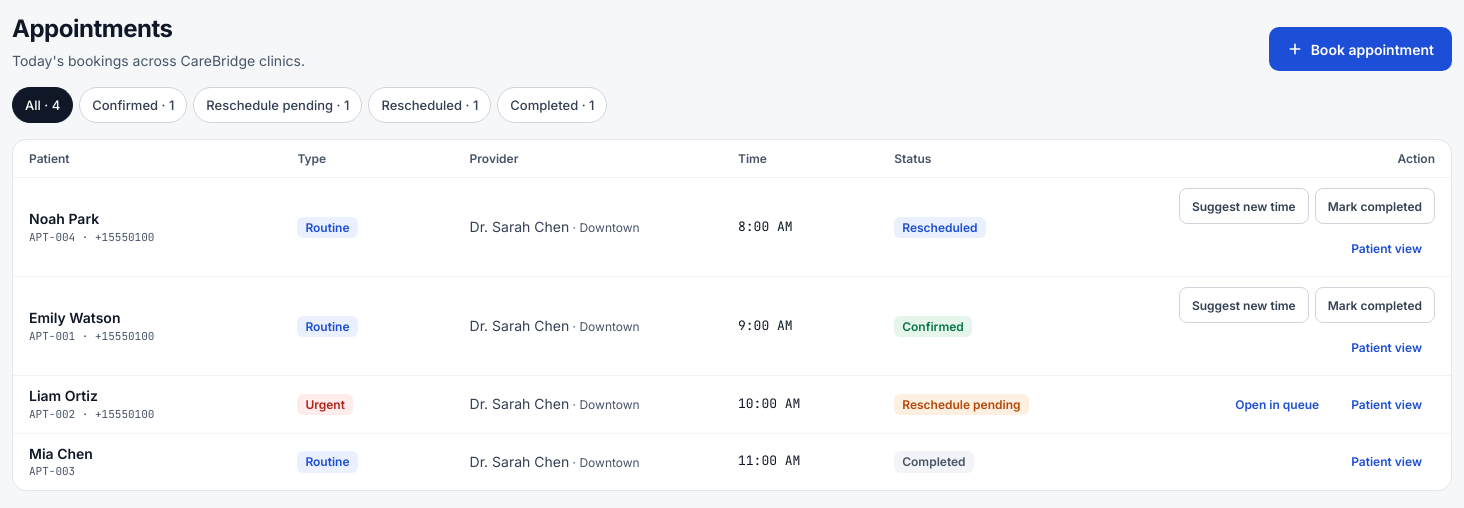
Test: AppointmentsView list › shows an empty message when nothing matches
Click the button "Rescheduled · 1" at (430,105), box [368,87,491,123]
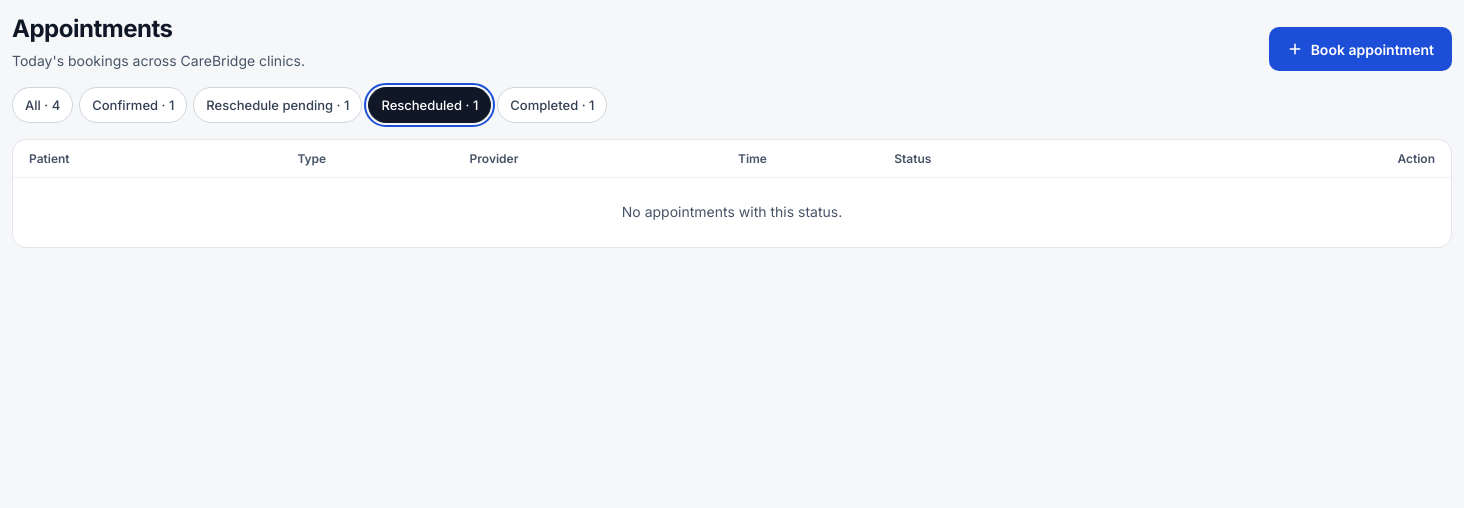
Check: the text "No appointments with this status." is shown, box [622,204,842,220]
